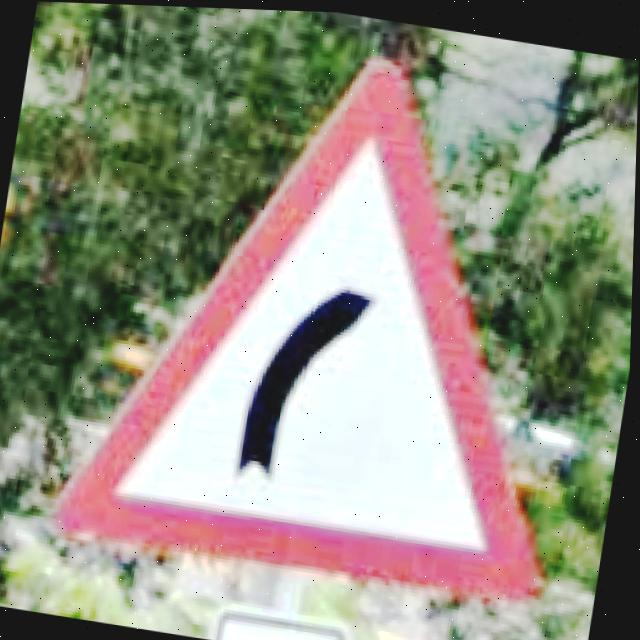rightbend: (52, 55, 541, 595)
